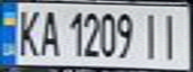0: (100, 9, 118, 58)
1: (63, 7, 84, 57)
2: (81, 8, 100, 59)
9: (115, 9, 139, 60)
A: (36, 6, 63, 57)
I: (157, 9, 187, 61), (139, 9, 163, 61)
K: (12, 6, 42, 57)
